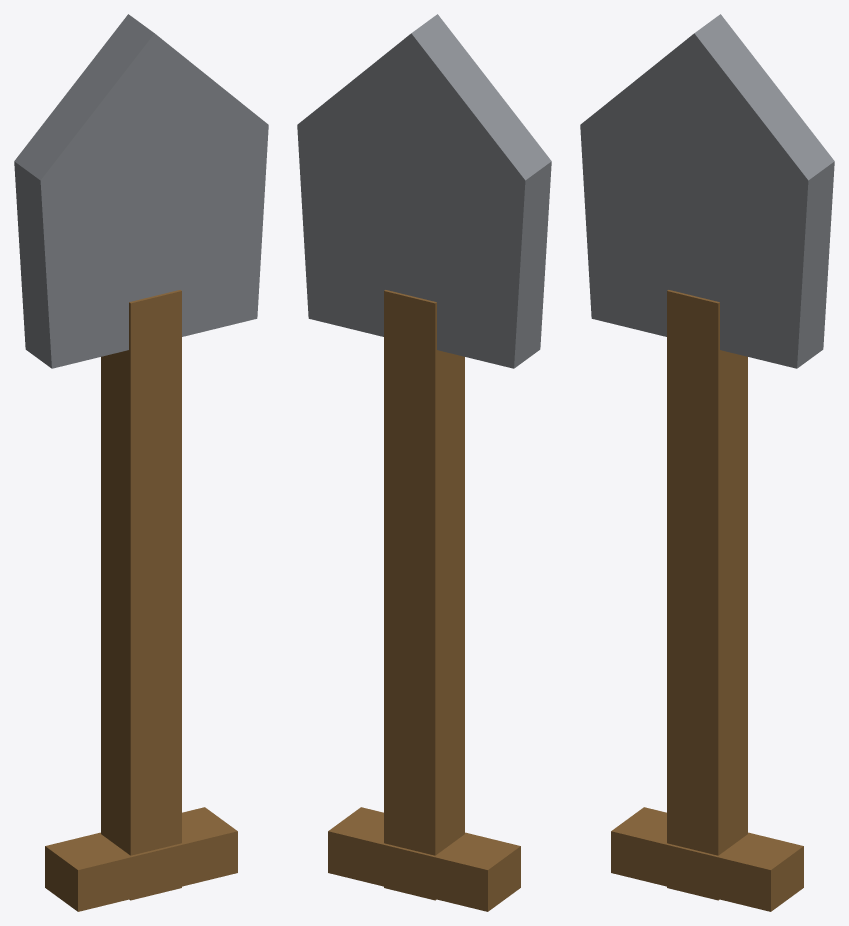
File: shovel_stone.fbx
The picture shows the model from 3 angles, left to right: view 1: azimuth 30°, elevation 25°; view 2: azimuth 150°, elevation 25°; view 3: azimuth 330°, elevation 25°; orthographic projection.
Visible parts, largest first — view 1: shovel_stone; view 2: shovel_stone; view 3: shovel_stone.
Boxes of the visible parts, box(x1,y1,x2,y2) form: shovel_stone: box(14, 14, 268, 911); shovel_stone: box(297, 14, 551, 911); shovel_stone: box(580, 14, 834, 911).
Bounding box in the file's own units: 0.6 × 2.16 × 0.15.
